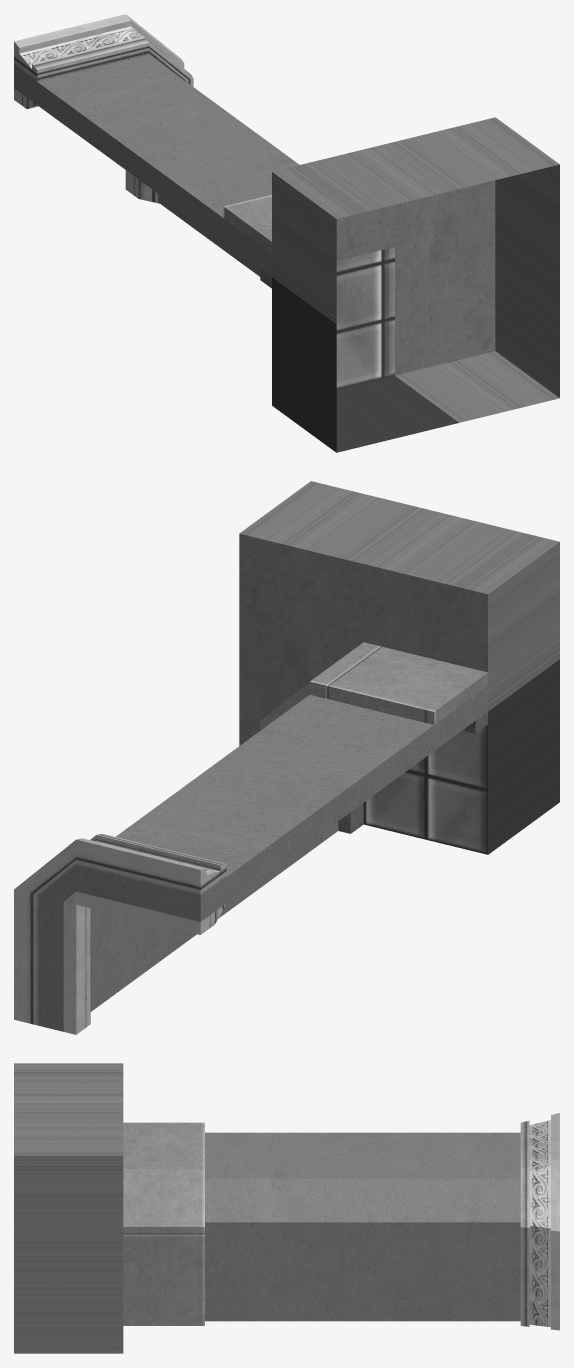
File: A_ground_wall_ 2m_corner.fbx
3 renders of one model, top to bottom at view 1: azimuth 30°, elevation 25°; view 2: azimuth 150°, elevation 25°; view 3: azimuth 270°, elevation 25°, orthographic. The views are drawn at different scales.
Parts seen in each view (by area): view 1: A_ground_wall__2m_corner; view 2: A_ground_wall__2m_corner; view 3: A_ground_wall__2m_corner.
Part boxes in pixels (x1,y1,x2,y2): A_ground_wall__2m_corner: (14, 14, 559, 452); A_ground_wall__2m_corner: (14, 481, 559, 1034); A_ground_wall__2m_corner: (14, 1063, 559, 1353).
Size of the model in its own units: 2 by 2 by 5.
